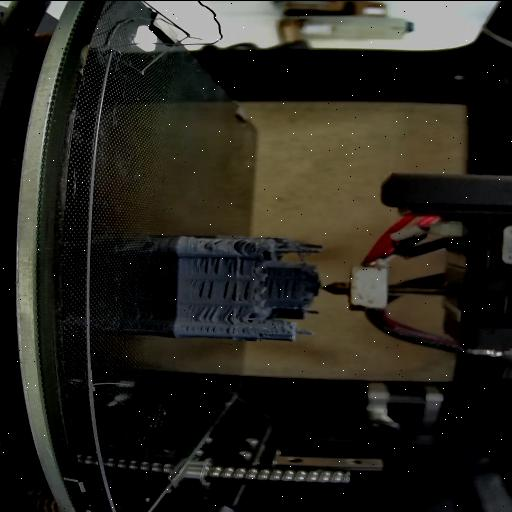cracks: (194, 256, 252, 274), (182, 324, 246, 336), (266, 278, 304, 298), (220, 279, 252, 299), (191, 304, 219, 324), (188, 279, 214, 297), (224, 305, 246, 323), (202, 236, 226, 250), (233, 236, 255, 250), (256, 329, 274, 340)
